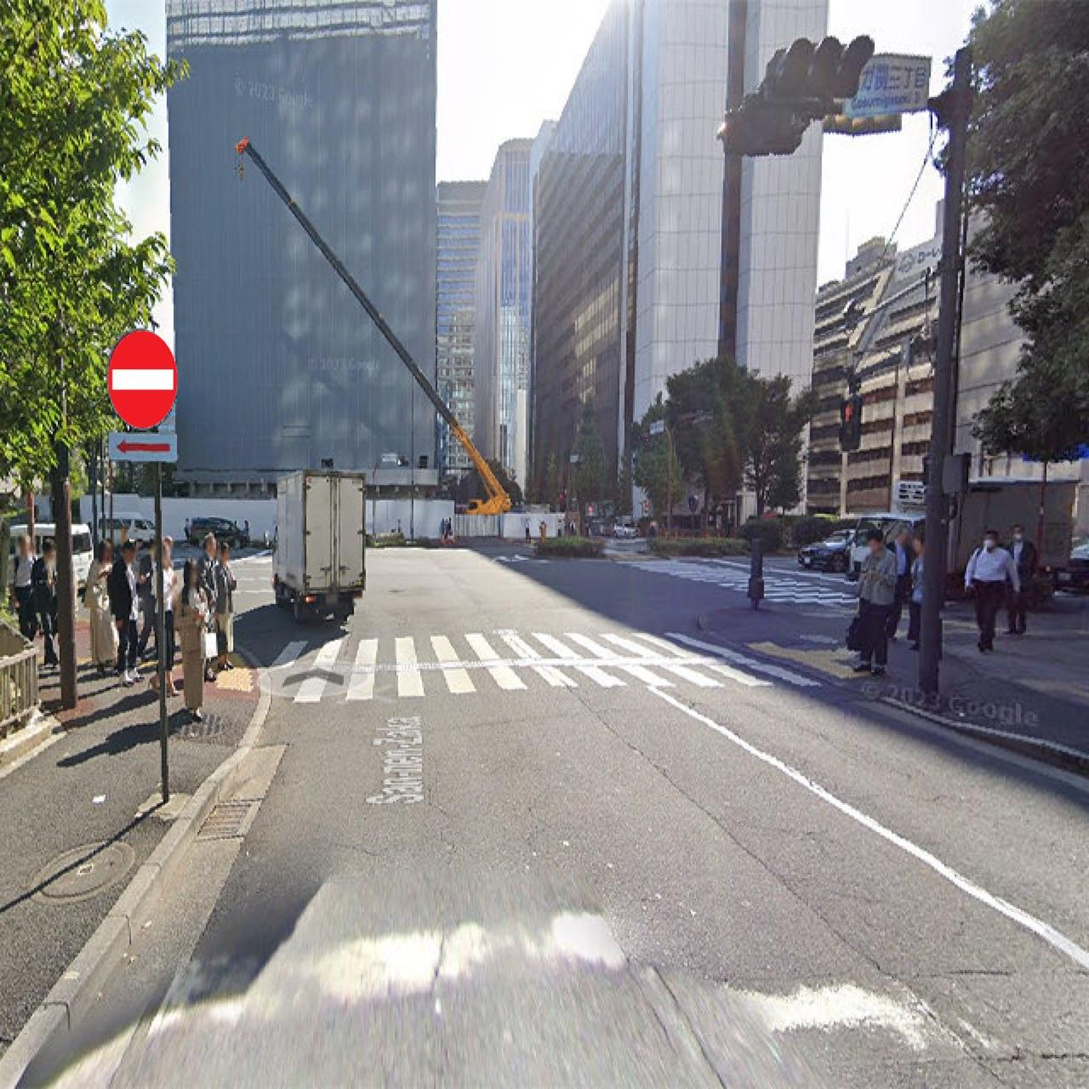barrier: (104, 324, 180, 433)
